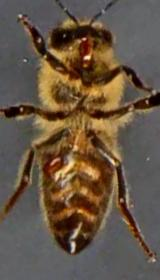varroa_mite: (40, 150, 71, 179)
